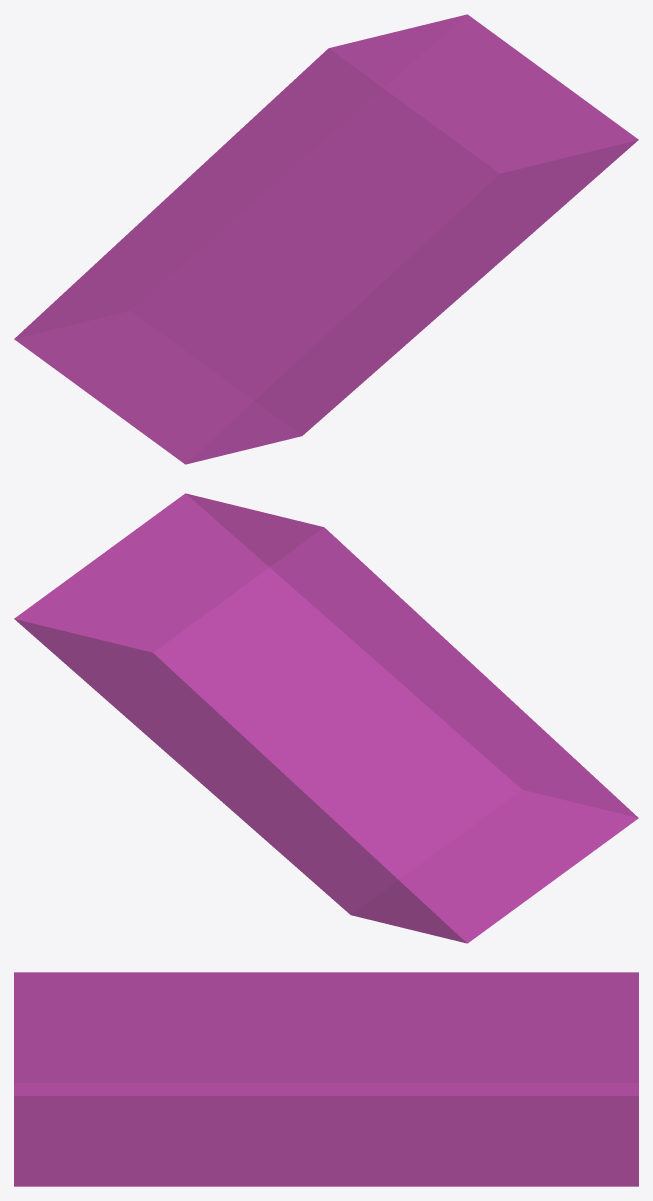
The model's file is SM_Bld_Dock_Stairs_Quarter_01_Collision.fbx.
The picture shows the model from 3 angles, top to bottom: view 1: azimuth 30°, elevation 25°; view 2: azimuth 150°, elevation 25°; view 3: azimuth 270°, elevation 25°; orthographic projection. The views are drawn at different scales.
Visible parts, largest first — view 1: SM_Bld_Dock_Stairs_Quarter_01_Collision; view 2: SM_Bld_Dock_Stairs_Quarter_01_Collision; view 3: SM_Bld_Dock_Stairs_Quarter_01_Collision.
Boxes of the visible parts, box(x1,y1,x2,y2) form: SM_Bld_Dock_Stairs_Quarter_01_Collision: box(14, 14, 638, 464); SM_Bld_Dock_Stairs_Quarter_01_Collision: box(14, 493, 638, 943); SM_Bld_Dock_Stairs_Quarter_01_Collision: box(14, 972, 638, 1186).
Bounding box in the file's own units: 182 × 82.34 × 119.
